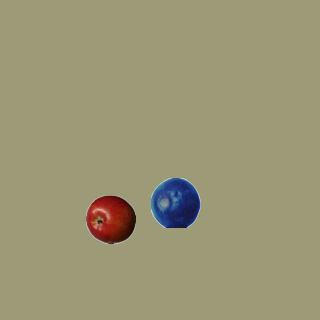Apple Braeburn: (85, 194, 135, 244)
Huckleberry: (150, 177, 200, 227)
